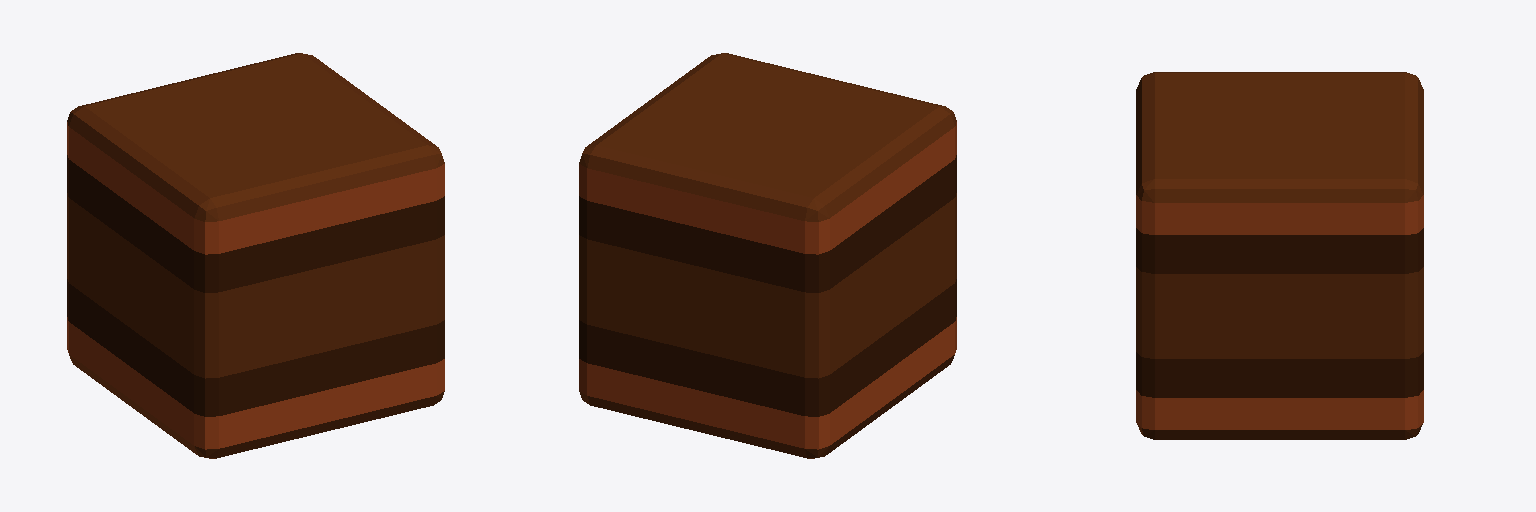
The model's file is Cube_Dirt_Single.obj.
The picture shows the model from 3 angles: view 1: azimuth 30°, elevation 25°; view 2: azimuth 150°, elevation 25°; view 3: azimuth 270°, elevation 25°; orthographic projection.
Parts seen in each view (by area): view 1: Cube_Dirt_Single_Cube.045; view 2: Cube_Dirt_Single_Cube.045; view 3: Cube_Dirt_Single_Cube.045.
Boxes of the visible parts, x1=… form: Cube_Dirt_Single_Cube.045: x1=67, y1=53, x2=444, y2=458; Cube_Dirt_Single_Cube.045: x1=579, y1=53, x2=956, y2=458; Cube_Dirt_Single_Cube.045: x1=1136, y1=72, x2=1423, y2=439.
Bounding box in the file's own units: 2 × 2 × 2.